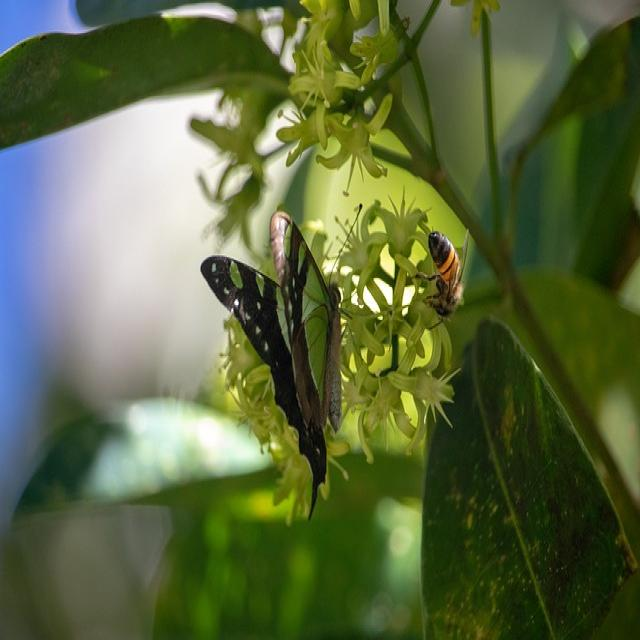butterfly: (203, 216, 341, 491)
